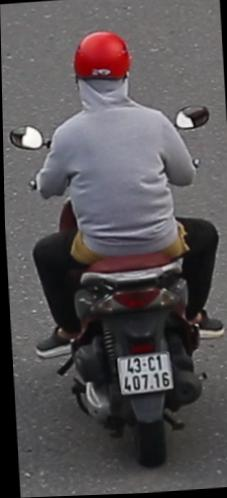LP: (113, 348, 173, 398)
helmet: (68, 26, 133, 110)
